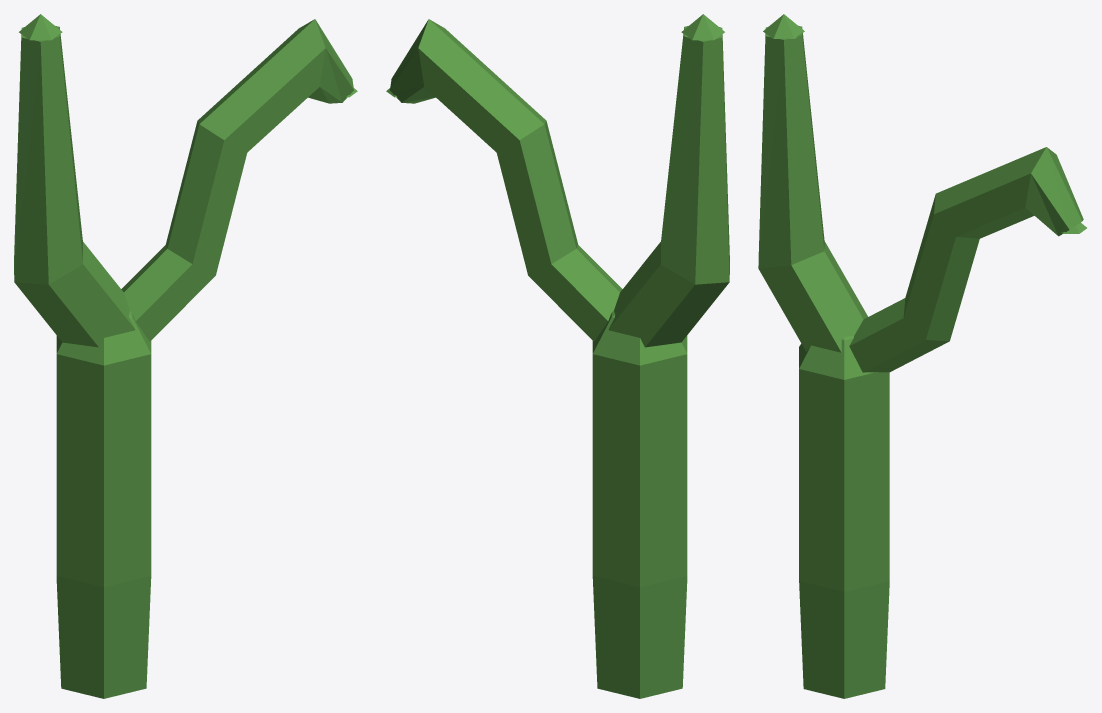
The model's file is Veg_Cactus_C.fbx.
3 views of the same model, side by side, from view 1: azimuth 30°, elevation 25°; view 2: azimuth 150°, elevation 25°; view 3: azimuth 330°, elevation 25° (orthographic). The views are drawn at different scales.
Visible parts, largest first — view 1: Veg_Cactus_C; view 2: Veg_Cactus_C; view 3: Veg_Cactus_C.
Boxes of the visible parts, box(x1,y1,x2,y2) form: Veg_Cactus_C: box(14, 14, 357, 698); Veg_Cactus_C: box(386, 14, 729, 698); Veg_Cactus_C: box(758, 14, 1086, 698).
Size of the model in its own units: 2.15 by 4.11 by 0.5196.
